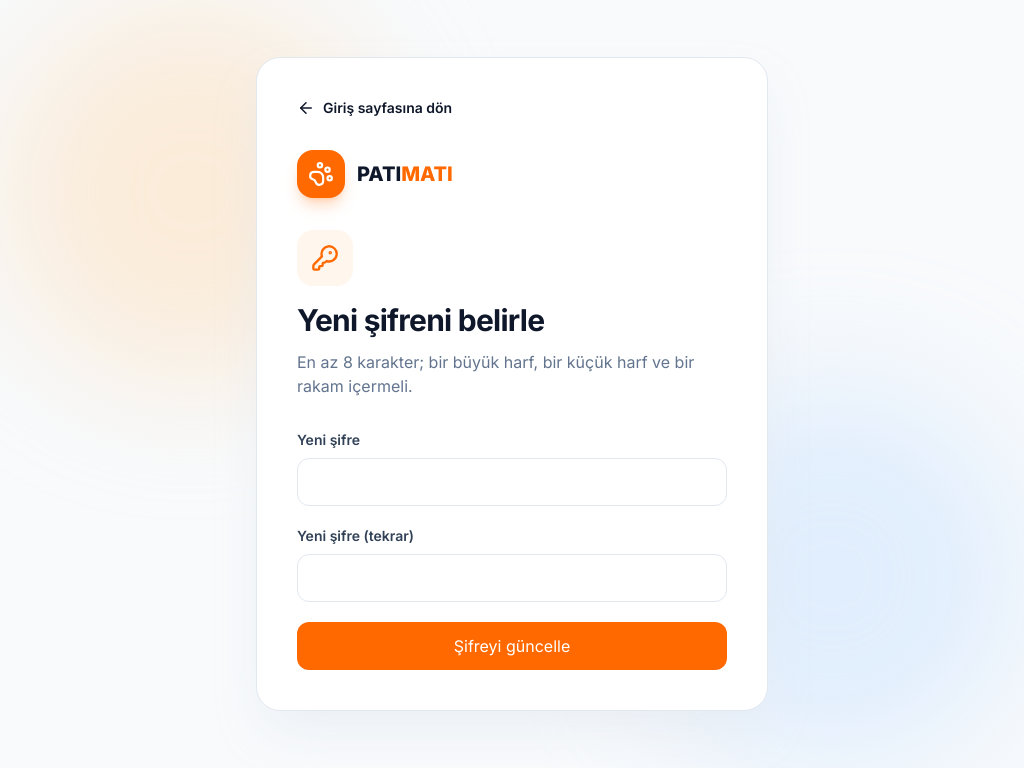
Test: ResetPasswordPage › sunucunun anlamlı hata metni (ör. süresi dolmuş bağlantı) kullanıcıya ulaşır
In the password field labelled "Yeni şifre": (512, 482) [297,458,727,506], type "YeniSifre1"
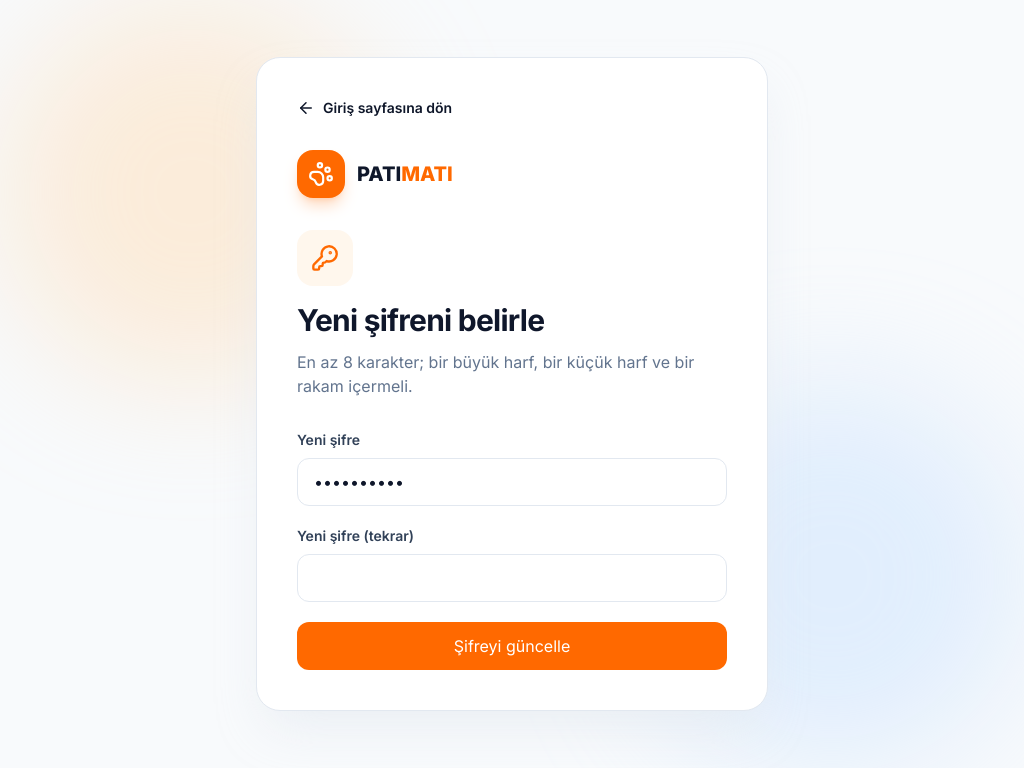
In the password field labelled "Yeni şifre (tekrar)": (512, 578) [297,554,727,602], type "YeniSifre1"
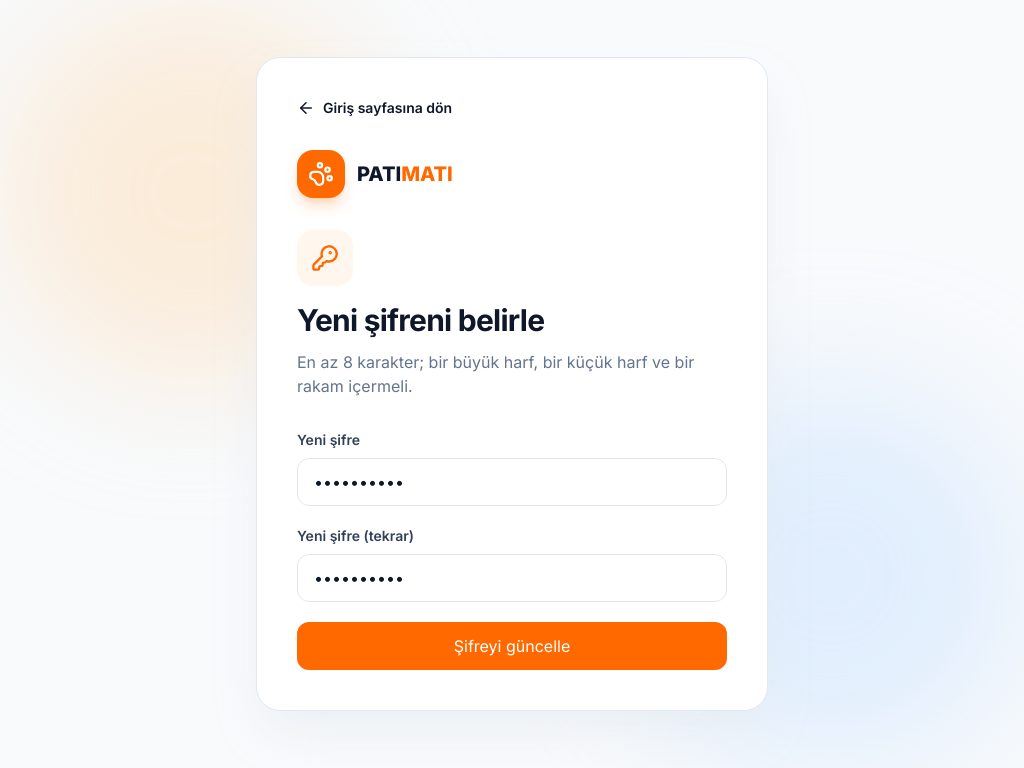
Click the button "Şifreyi güncelle": (512, 646) [297,622,727,670]
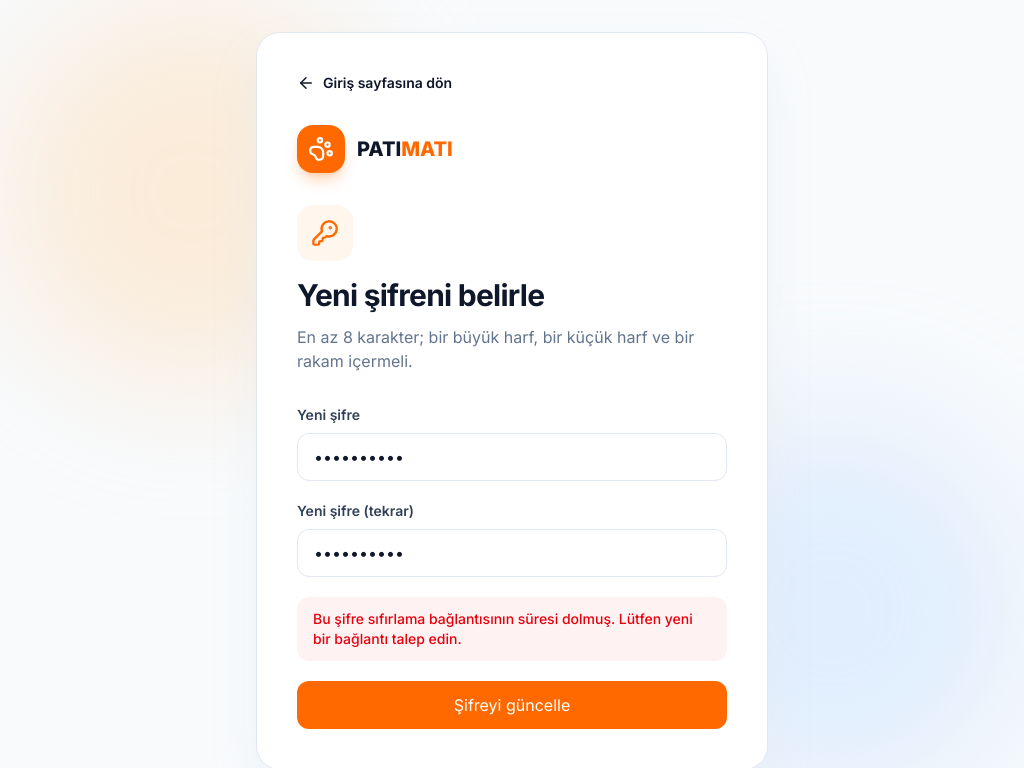
expect the message shows "Bu şifre sıfırlama bağlantısının süresi dolmuş. Lütfen yeni bir bağlantı talep edin.": met, box [313,610,693,647]
